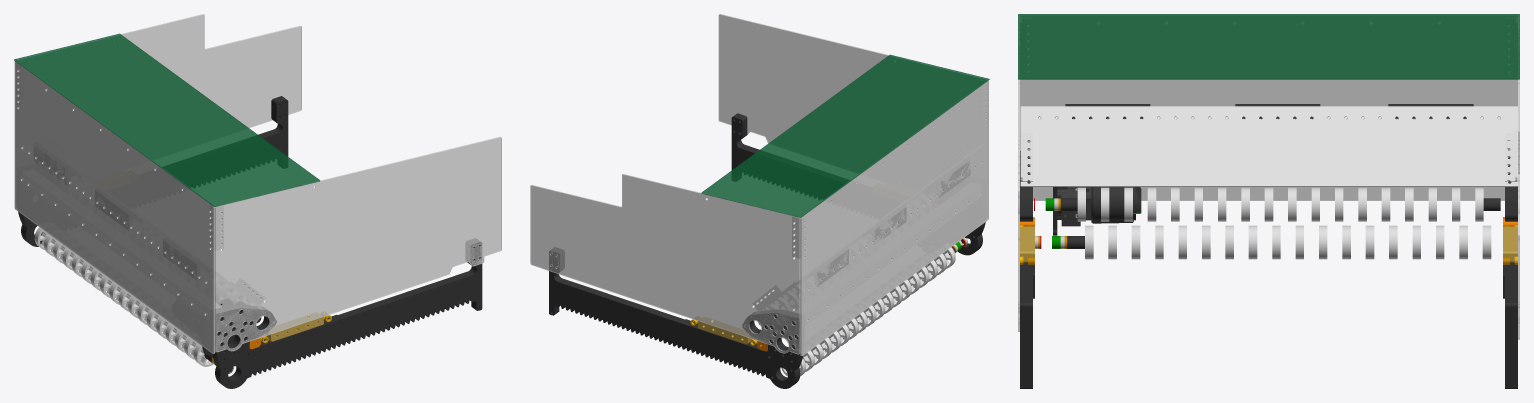
3 views of the same model, side by side, from view 1: azimuth 30°, elevation 25°; view 2: azimuth 150°, elevation 25°; view 3: azimuth 270°, elevation 25° (orthographic). The views are drawn at different scales.
Parts seen in each view (by area): view 1: merged_30 NOSIMPLIFY, merged_33 NOSIMPLIFY, merged_32 NOSIMPLIFY, merged_0, merged_25, merged_6, merged_9; view 2: merged_30 NOSIMPLIFY, merged_33 NOSIMPLIFY, merged_32 NOSIMPLIFY, merged_0, merged_25, merged_6, merged_9; view 3: merged_33 NOSIMPLIFY, merged_5, merged_32 NOSIMPLIFY, merged_25, merged_0, merged_6, merged_3, merged_30 NOSIMPLIFY, merged_9, merged_27.
Boxes of the visible parts, bbox=[...] form: merged_30 NOSIMPLIFY: bbox=[17, 14, 501, 352]; merged_33 NOSIMPLIFY: bbox=[14, 61, 215, 353]; merged_32 NOSIMPLIFY: bbox=[14, 33, 320, 206]; merged_0: bbox=[18, 96, 482, 388]; merged_25: bbox=[34, 227, 250, 366]; merged_6: bbox=[16, 60, 264, 304]; merged_9: bbox=[265, 313, 323, 341]; merged_30 NOSIMPLIFY: bbox=[530, 14, 986, 354]; merged_33 NOSIMPLIFY: bbox=[800, 81, 988, 355]; merged_32 NOSIMPLIFY: bbox=[701, 54, 989, 217]; merged_0: bbox=[549, 113, 985, 388]; merged_25: bbox=[764, 247, 955, 376]; merged_6: bbox=[753, 80, 986, 309]; merged_9: bbox=[698, 317, 752, 344]; merged_33 NOSIMPLIFY: bbox=[1020, 15, 1517, 200]; merged_5: bbox=[1020, 106, 1517, 217]; merged_32 NOSIMPLIFY: bbox=[1018, 14, 1519, 79]; merged_25: bbox=[1077, 187, 1491, 259]; merged_0: bbox=[1020, 104, 1517, 388]; merged_6: bbox=[1020, 18, 1517, 181]; merged_3: bbox=[1091, 187, 1141, 223]; merged_30 NOSIMPLIFY: bbox=[1018, 17, 1519, 339]; merged_9: bbox=[1020, 226, 1517, 262]; merged_27: bbox=[1057, 187, 1091, 226].
Size of the model in its own units: 0.6191 by 0.3868 by 0.7493.
